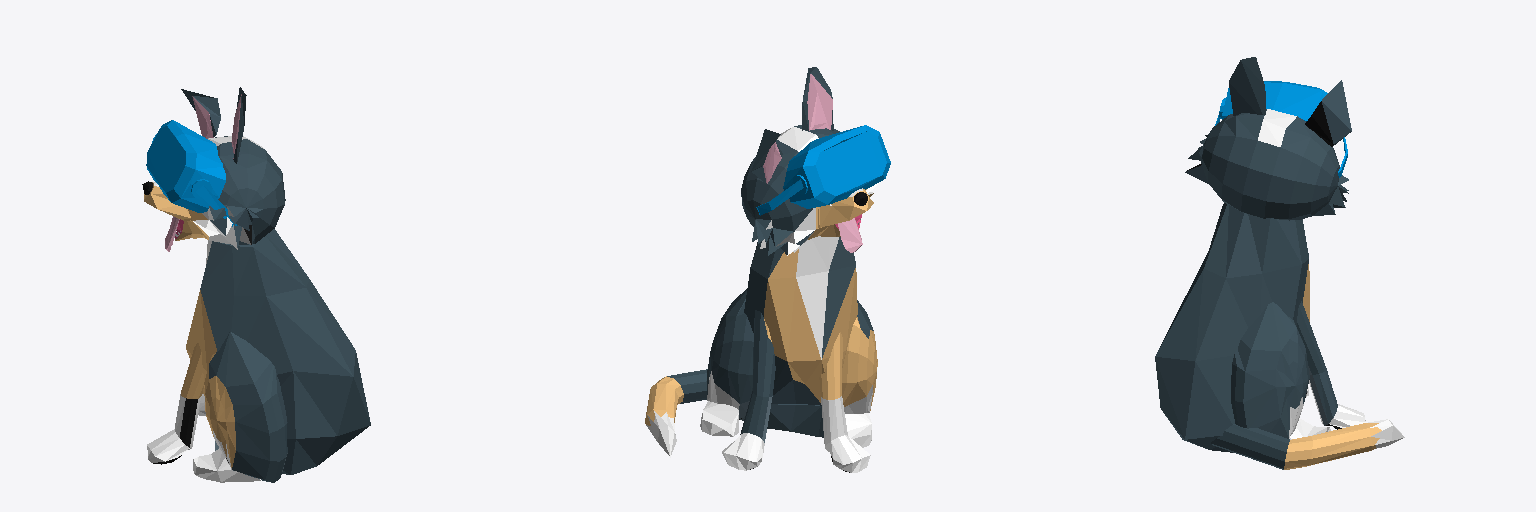
The picture shows the model from 3 angles: view 1: azimuth 30°, elevation 25°; view 2: azimuth 150°, elevation 25°; view 3: azimuth 270°, elevation 25°; orthographic projection.
Visible parts, largest first — view 1: group[number redacted], group[number redacted], group[number redacted], group[number redacted], group[number redacted], group[number redacted]; view 2: group[number redacted], group[number redacted], group[number redacted], group[number redacted], group[number redacted], group[number redacted], group[number redacted], group[number redacted], group[number redacted], group[number redacted]; view 3: group[number redacted], group[number redacted], group[number redacted], group[number redacted], group[number redacted], group[number redacted].
Part boxes in pixels (left/top/right/bottom): group[number redacted]: left=186, top=229, right=370, bottom=474; group[number redacted]: left=142, top=87, right=285, bottom=251; group[number redacted]: left=204, top=332, right=287, bottom=482; group[number redacted]: left=146, top=120, right=237, bottom=226; group[number redacted]: left=147, top=343, right=203, bottom=464; group[number redacted]: left=193, top=448, right=260, bottom=482; group[number redacted]: left=740, top=236, right=857, bottom=437; group[number redacted]: left=741, top=67, right=877, bottom=255; group[number redacted]: left=756, top=125, right=890, bottom=215; group[number redacted]: left=707, top=289, right=753, bottom=419; group[number redacted]: left=722, top=310, right=775, bottom=470; group[number redacted]: left=819, top=332, right=870, bottom=472; group[number redacted]: left=842, top=300, right=877, bottom=413; group[number redacted]: left=645, top=369, right=707, bottom=457; group[number redacted]: left=700, top=401, right=738, bottom=436; group[number redacted]: left=845, top=413, right=871, bottom=447; group[number redacted]: left=1155, top=203, right=1309, bottom=452; group[number redacted]: left=1185, top=57, right=1351, bottom=220; group[number redacted]: left=1231, top=302, right=1309, bottom=438; group[number redacted]: left=1211, top=419, right=1404, bottom=469; group[number redacted]: left=1297, top=301, right=1365, bottom=429; group[number redacted]: left=1215, top=81, right=1347, bottom=177.
Bounding box in the file's own units: 0.5041 × 0.8464 × 0.5165.